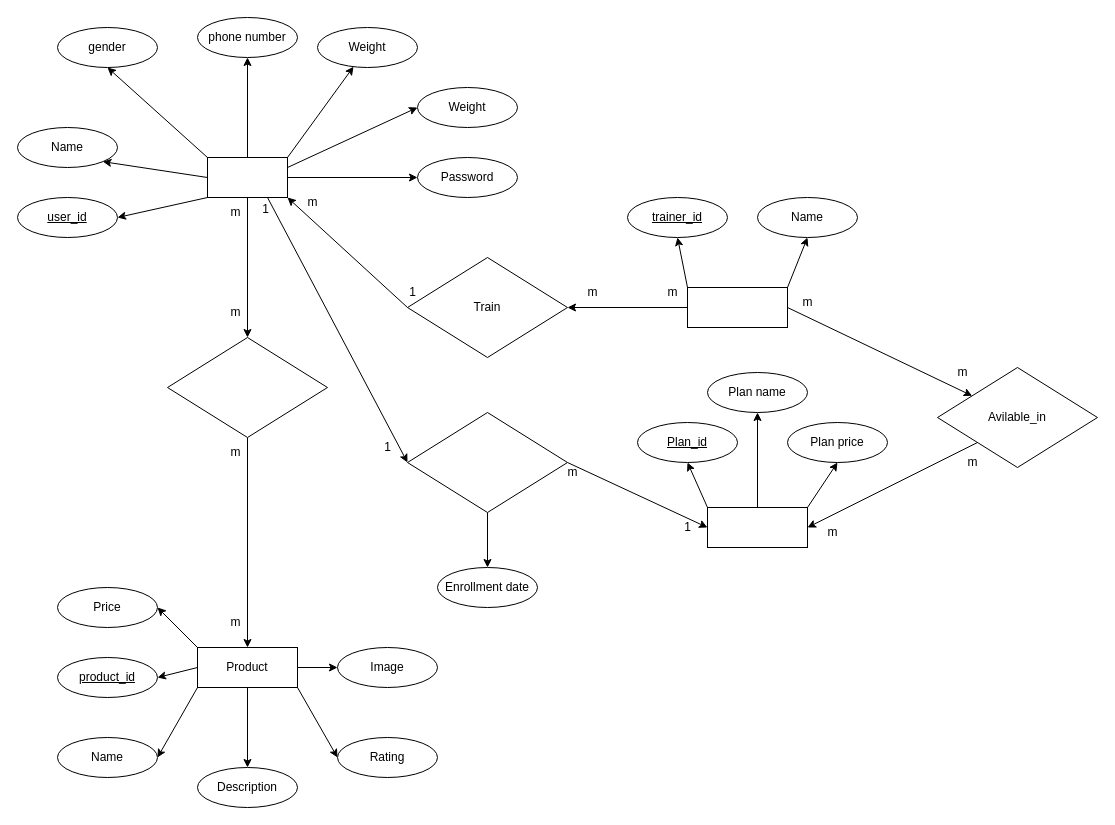
Some shapes in this 1115 by 825 pixel diagram are drawn without their labels. Each missing label, with the centre of its shape:
Buy: the point at 247,387
Enroled_in: the point at 487,462
Plan: the point at 757,527
Trainer: the point at 737,307
User: the point at 247,177
